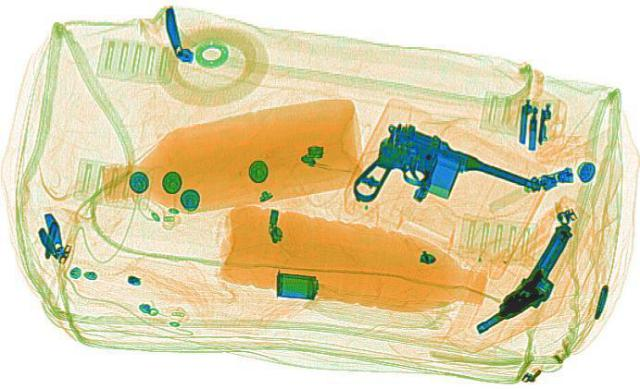Gun: (312, 117, 544, 242), (473, 216, 585, 339)
